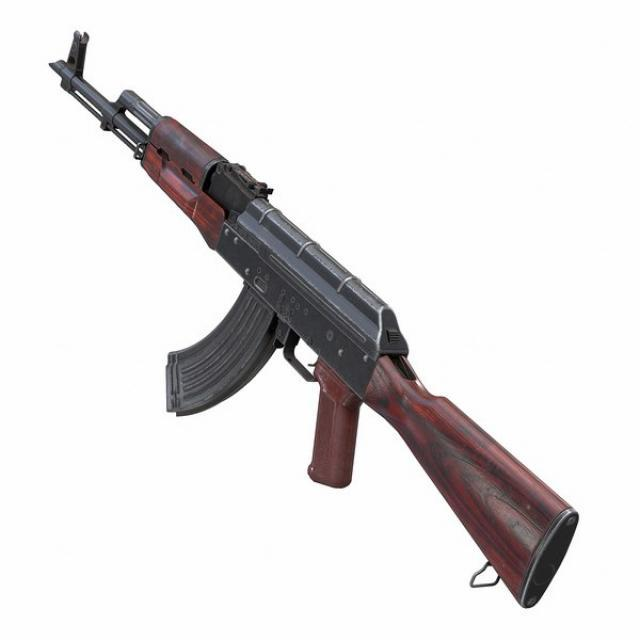weapon: (47, 28, 581, 610)
